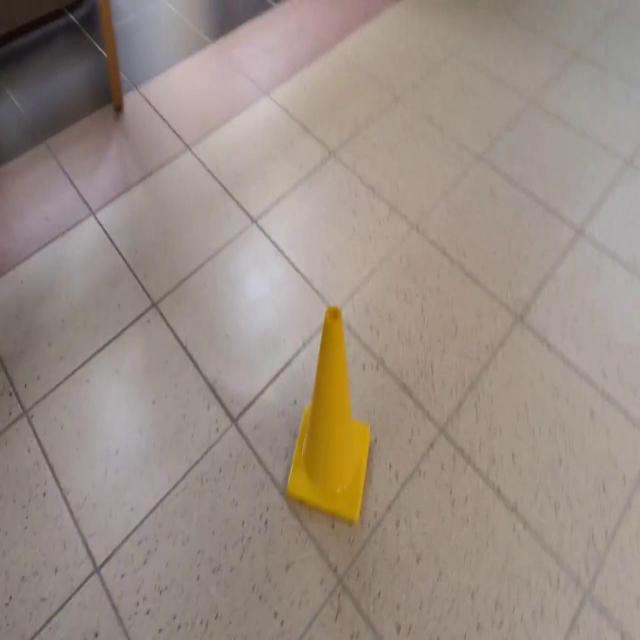frc_cone: (288, 301, 372, 523)
